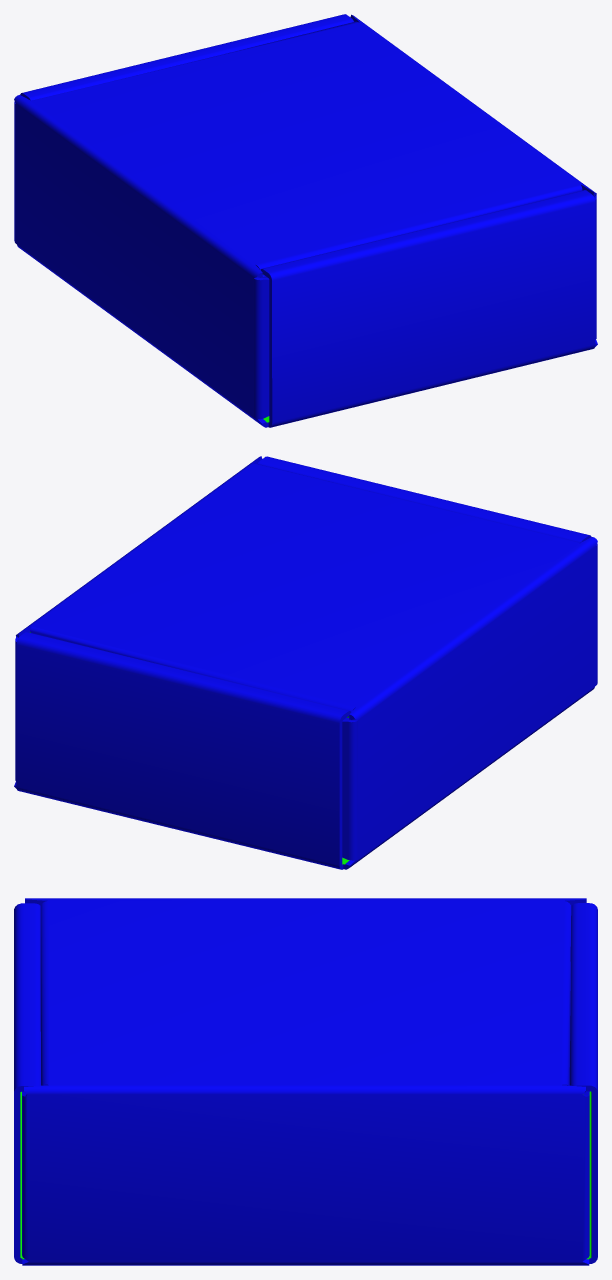
The model's file is earring_box_size02.glb.
3 views of the same model, one above another, from view 1: azimuth 30°, elevation 25°; view 2: azimuth 150°, elevation 25°; view 3: azimuth 270°, elevation 25° (orthographic). The views are drawn at different scales.
Parts seen in each view (by area): view 1: EarringStable; view 2: EarringStable; view 3: EarringStable.
Boxes of the visible parts, x1,y1,x2,y2 form: EarringStable: [14, 14, 597, 427]; EarringStable: [14, 456, 597, 869]; EarringStable: [14, 898, 597, 1265].
Bounding box in the file's own units: 7.21 × 3.13 × 9.23.
